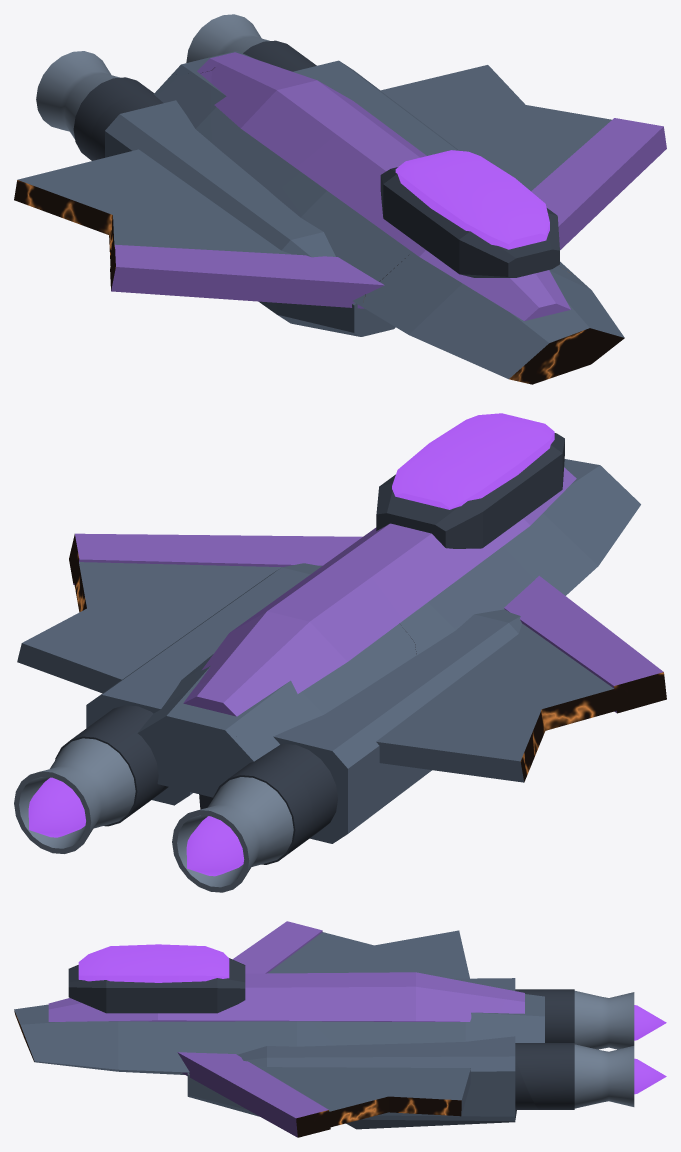
File: drone_wreck.glb
3 views of the same model, one above another, from view 1: azimuth 30°, elevation 25°; view 2: azimuth 150°, elevation 25°; view 3: azimuth 270°, elevation 25° (orthographic). The views are drawn at different scales.
Visible parts, largest first — view 1: drone_wreck_01, drone_wreck_07, drone_wreck_02, drone_wreck_06, drone_wreck_10, drone_wreck_08, drone_wreck_11, drone_wreck_09, drone_wreck_00; view 2: drone_wreck_06, drone_wreck_02, drone_wreck_10, drone_wreck_00, drone_wreck_07, drone_wreck_08, drone_wreck_01, drone_wreck_09, drone_wreck_11; view 3: drone_wreck_08, drone_wreck_01, drone_wreck_02, drone_wreck_11, drone_wreck_10, drone_wreck_00, drone_wreck_09, drone_wreck_07, drone_wreck_06.
Boxes of the visible parts, x1,y1,x2,y2 form: drone_wreck_01: [362, 164, 624, 384]; drone_wreck_07: [109, 187, 395, 336]; drone_wreck_02: [201, 57, 483, 194]; drone_wreck_06: [14, 70, 212, 234]; drone_wreck_10: [282, 129, 499, 293]; drone_wreck_08: [438, 105, 666, 279]; drone_wreck_11: [297, 61, 525, 124]; drone_wreck_09: [36, 51, 178, 160]; drone_wreck_00: [174, 14, 339, 76]; drone_wreck_06: [240, 689, 545, 846]; drone_wreck_02: [141, 562, 439, 700]; drone_wreck_10: [306, 450, 557, 642]; drone_wreck_00: [14, 681, 243, 853]; drone_wreck_07: [415, 590, 666, 730]; drone_wreck_08: [69, 533, 362, 622]; drone_wreck_01: [417, 413, 640, 595]; drone_wreck_09: [172, 733, 312, 892]; drone_wreck_11: [17, 608, 213, 809]; drone_wreck_08: [136, 1023, 388, 1137]; drone_wreck_01: [14, 944, 183, 1073]; drone_wreck_02: [311, 972, 509, 1081]; drone_wreck_11: [353, 1008, 538, 1129]; drone_wreck_10: [172, 945, 328, 1041]; drone_wreck_00: [502, 990, 666, 1109]; drone_wreck_09: [541, 989, 666, 1049]; drone_wreck_07: [232, 921, 377, 973]; drone_wreck_06: [374, 930, 543, 995].
Size of the model in its own units: 2.4 by 0.9469 by 3.29.
8 materials, 1 textured.
